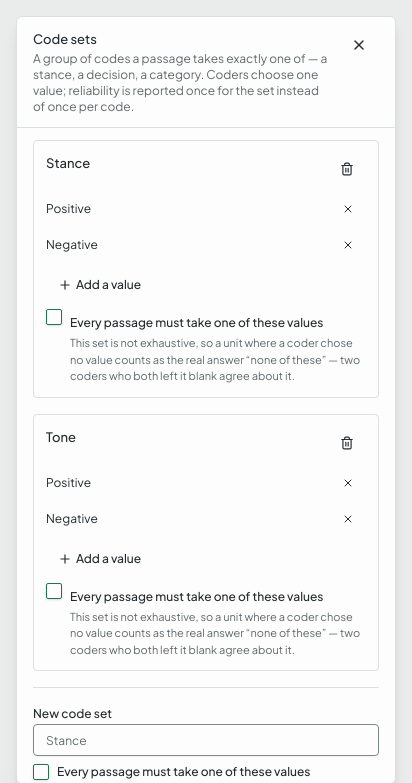
Test: once answered › #997 — every control names what it acts on › gives NO two controls the same name — the whole panel, not a list of the known ones
The image size is (412, 783).
Check: the element "Stance" is shown, box [33,140,379,398]
Click the button with aria-label "Add a value to Stance" at {"x": 100, "y": 285}, box [46,269,153,301]
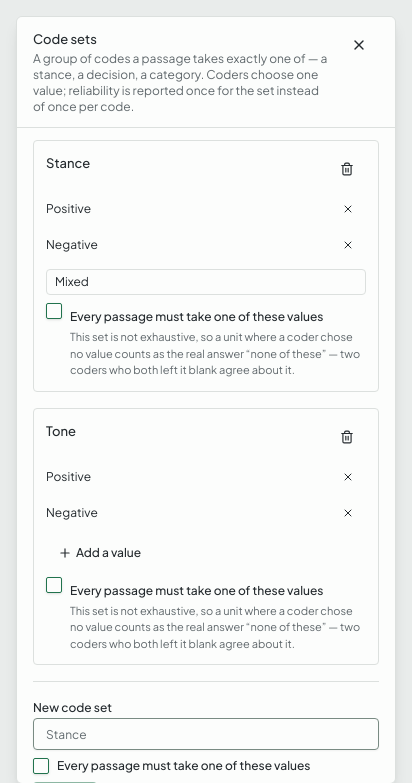
Check: the button with aria-label "Add Mixed to Stance" is shown, box [47,270,365,294]
